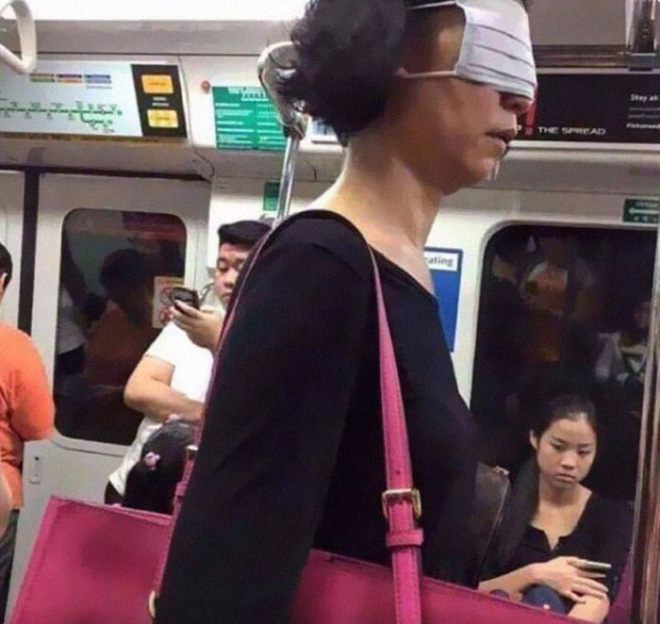with_incorrect_mask: (421, 2, 531, 183)
without_mask: (547, 429, 592, 485), (216, 249, 241, 305)
